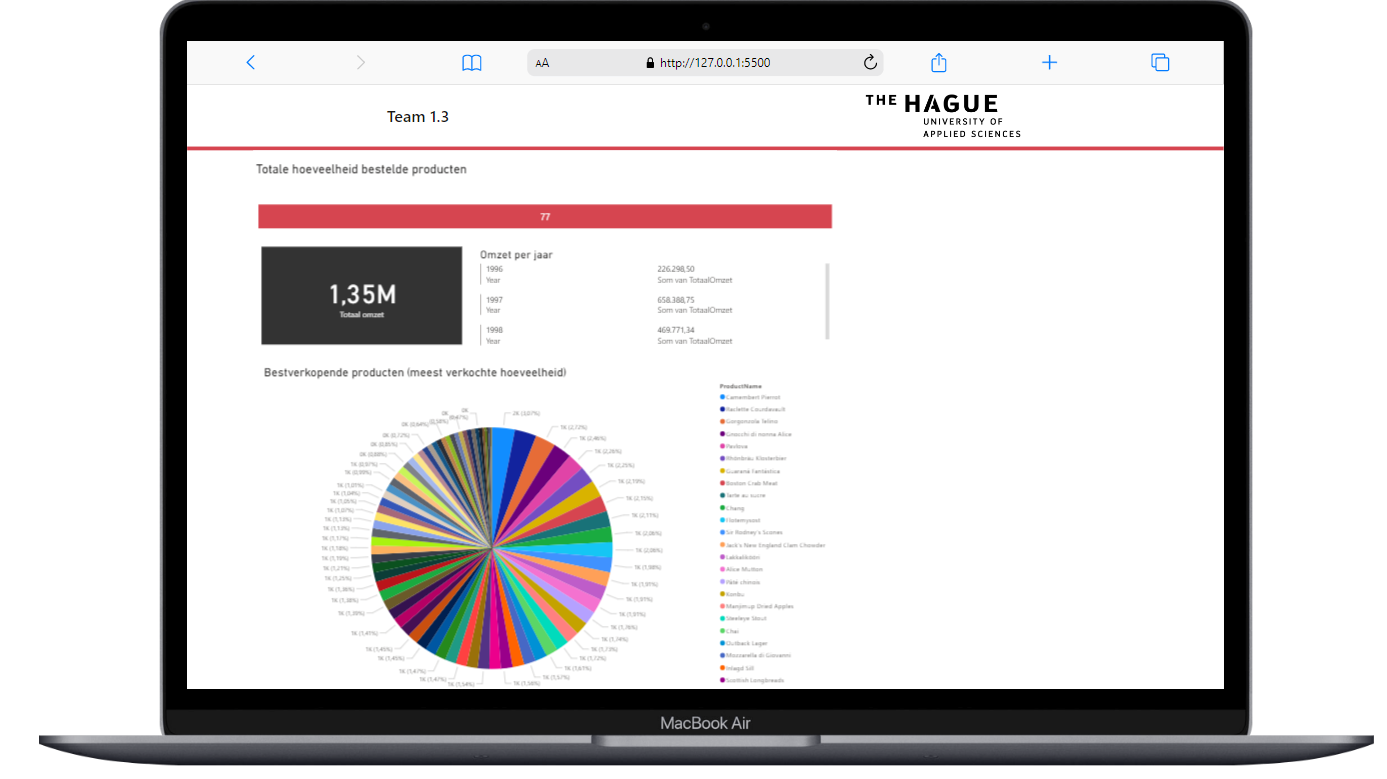

The page's visual inventory and layout, read from the dashboard file:
{"tool":"powerbi","page":{"name":"Totale verkoopopbrengst","canvas":[1200,1220],"ordinal":0},"visuals":[{"type":"funnel","title":"Totale hoeveelheid bestelde producten","fields":{"Y":["CountNonNull(Product.ProductID)"]},"box":[0,75,1264.3,239],"z":1},{"type":"multiRowCard","title":"Omzet per jaar","fields":{"Values":["Day.Year","Sum(OrderDetails.TotaalOmzet)"]},"box":[536.4,324.2,727.5,210.3],"z":2},{"type":"card","title":"Totaal omzet","fields":{"Values":["Sum(OrderDetails.TotaalOmzet)"]},"box":[56,326.1,411,200.7],"z":3},{"type":"pieChart","title":"Bestverkopende producten (meest verkochte hoeveelheid): ","fields":{"Category":["Product.ProductName"],"Y":["Sum(OrderDetails.Quantity)"]},"box":[27.2,539.5,1143.3,626.1],"z":4}]}

Visuals, with their boxes on the page's 1200x1220 design canvas (x1, y1, x2, y2). These are canvas units, not pixel positions in the 1387x779 screenshot, which may show the page scaled, cropped or inside an application window:
"Totale hoeveelheid bestelde producten" funnel: [0, 75, 1264, 314]
"Omzet per jaar" multiRowCard: [536, 324, 1264, 534]
"Totaal omzet" card: [56, 326, 467, 527]
"Bestverkopende producten (meest verkochte hoeveelheid): " pieChart: [27, 540, 1170, 1166]
